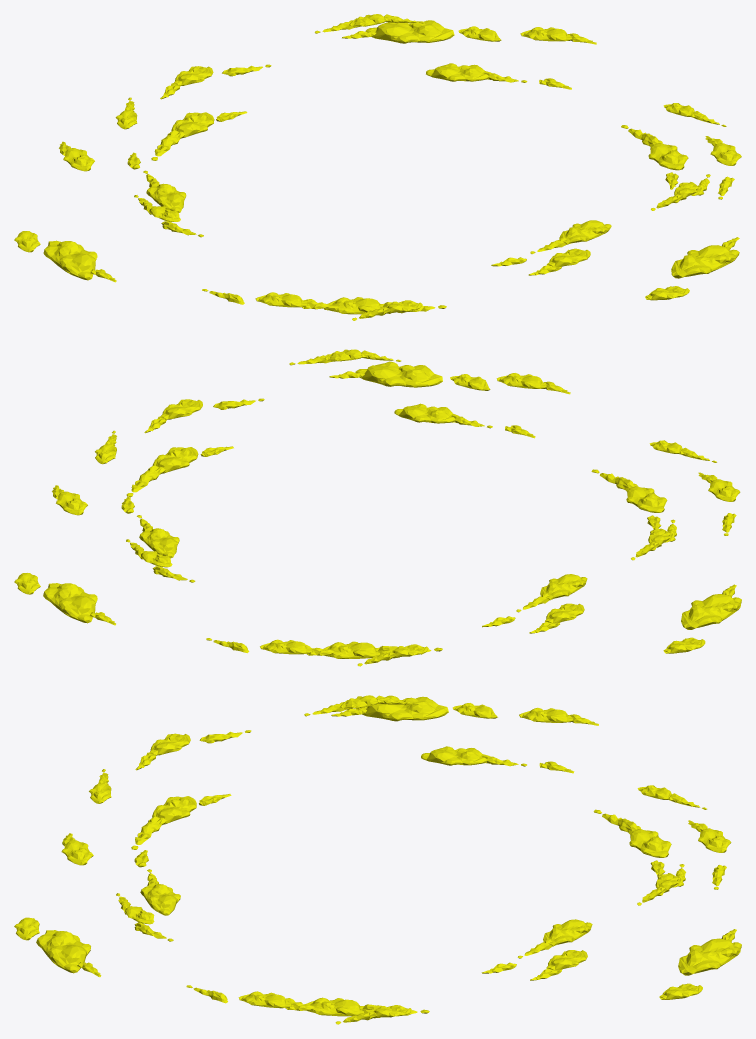
The model's file is SM_Generic_CloudRing_01.glb.
The picture shows the model from 3 angles, top to bottom: view 1: azimuth 30°, elevation 25°; view 2: azimuth 150°, elevation 25°; view 3: azimuth 270°, elevation 25°; orthographic projection. The views are drawn at different scales.
Visible parts, largest first — view 1: SM_Generic_CloudRing_01; view 2: SM_Generic_CloudRing_01; view 3: SM_Generic_CloudRing_01.
Part boxes in pixels (x1=…): SM_Generic_CloudRing_01: x1=14, y1=14, x2=741, y2=320; SM_Generic_CloudRing_01: x1=14, y1=349, x2=741, y2=666; SM_Generic_CloudRing_01: x1=14, y1=695, x2=741, y2=1024.
Size of the model in its own units: 265 by 24.89 by 248.
Materials: 1 (1 with a texture image).
